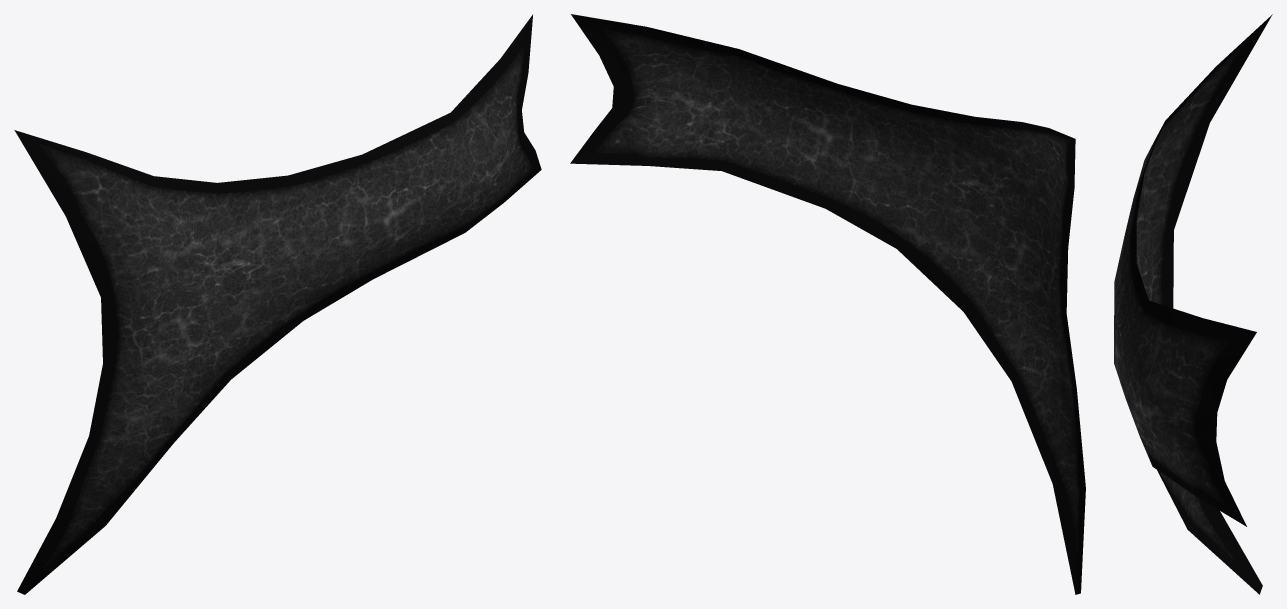
File: cobwebs_04.dae
3 views of the same model, side by side, from view 1: azimuth 30°, elevation 25°; view 2: azimuth 150°, elevation 25°; view 3: azimuth 270°, elevation 25° (orthographic). The views are drawn at different scales.
Visible parts, largest first — view 1: cobweb_4; view 2: cobweb_4; view 3: cobweb_4.
Boxes of the visible parts, <box> form: cobweb_4: <box>14,14,541,594</box>; cobweb_4: <box>570,14,1085,594</box>; cobweb_4: <box>1114,14,1272,594</box>.
Bounding box in the file's own units: 0.9199 × 0.784 × 0.1954.
